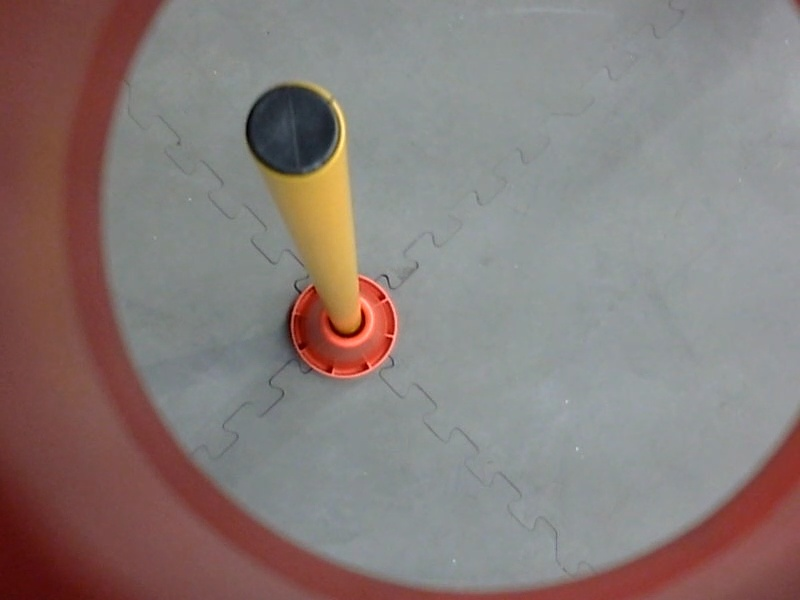tip: (240, 73, 350, 185)
